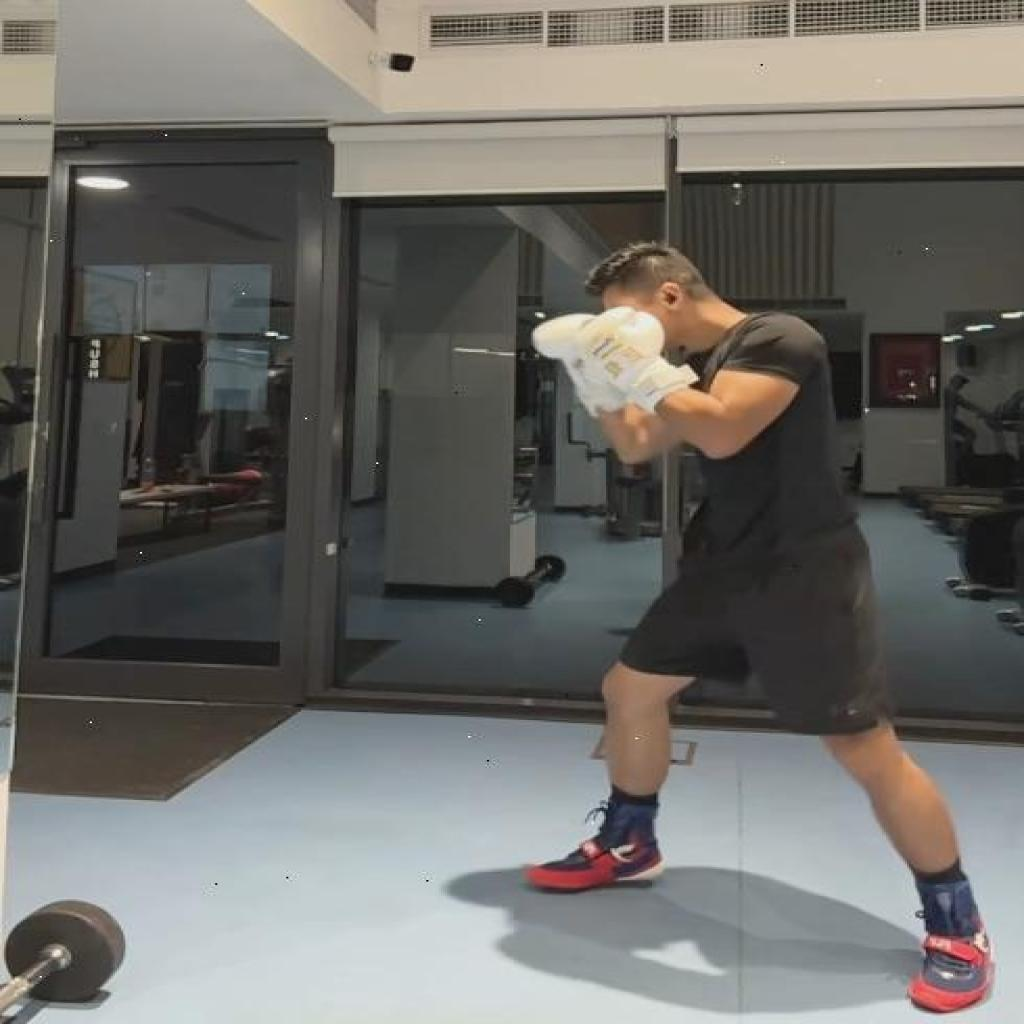no punch: (524, 238, 999, 1018)
